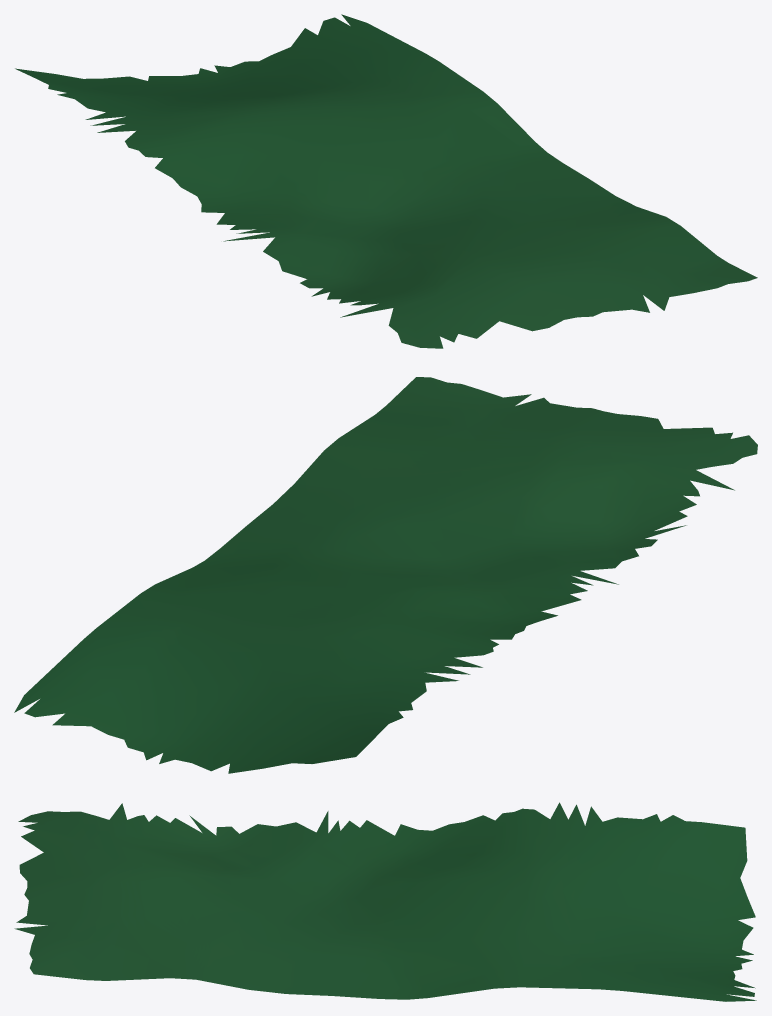
File: payo_land_xm5_y4_lod1.glb
The picture shows the model from 3 angles, top to bottom: view 1: azimuth 30°, elevation 25°; view 2: azimuth 150°, elevation 25°; view 3: azimuth 270°, elevation 25°; orthographic projection. The views are drawn at different scales.
Parts seen in each view (by area): view 1: payo_land_xm5_y4; view 2: payo_land_xm5_y4; view 3: payo_land_xm5_y4.
Boxes of the visible parts, x1=… form: payo_land_xm5_y4: x1=15, y1=14, x2=757, y2=348; payo_land_xm5_y4: x1=14, y1=377, x2=757, y2=773; payo_land_xm5_y4: x1=14, y1=802, x2=756, y2=1001.
Size of the model in its own units: 135 by 24.62 by 266.
